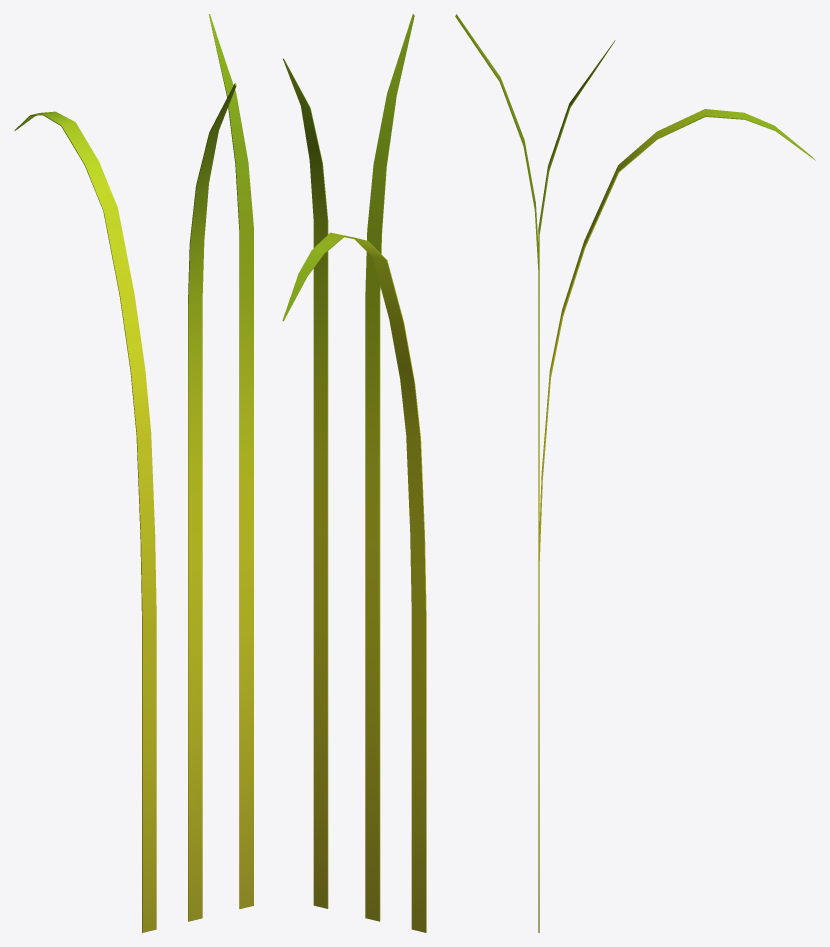
File: Seagrass_cluster.fbx
The picture shows the model from 3 angles, left to right: view 1: azimuth 30°, elevation 25°; view 2: azimuth 150°, elevation 25°; view 3: azimuth 270°, elevation 25°; orthographic projection. The views are drawn at different scales.
Visible parts, largest first — view 1: pasted__Seagrass (×2), Seagrass; view 2: pasted__Seagrass (×2), Seagrass; view 3: pasted__Seagrass (×2), Seagrass.
Boxes of the visible parts, x1=… form: pasted__Seagrass (×2): x1=14, y1=14, x2=253, y2=932; Seagrass: x1=188, y1=83, x2=236, y2=921; pasted__Seagrass (×2): x1=282, y1=58, x2=426, y2=932; Seagrass: x1=365, y1=14, x2=414, y2=921; pasted__Seagrass (×2): x1=538, y1=40, x2=815, y2=932; Seagrass: x1=455, y1=14, x2=538, y2=269.
Bounding box in the file's own units: 15.41 × 115 × 42.08.
1 material, 1 textured.
